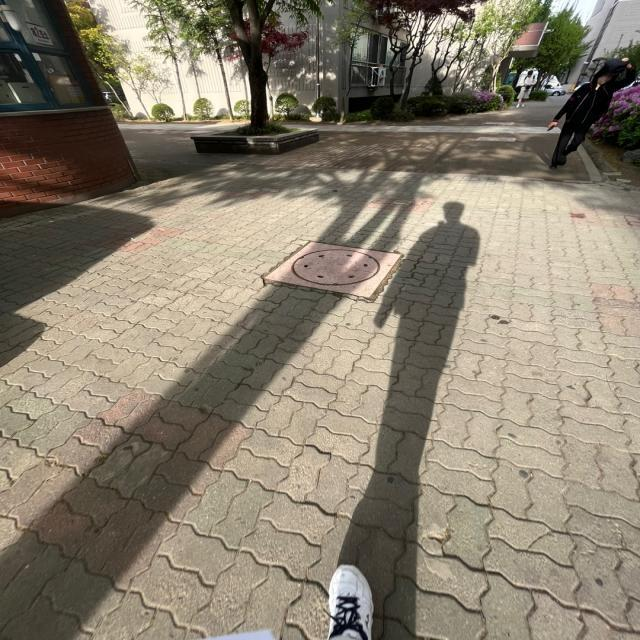manhole: (242, 228, 419, 318)
